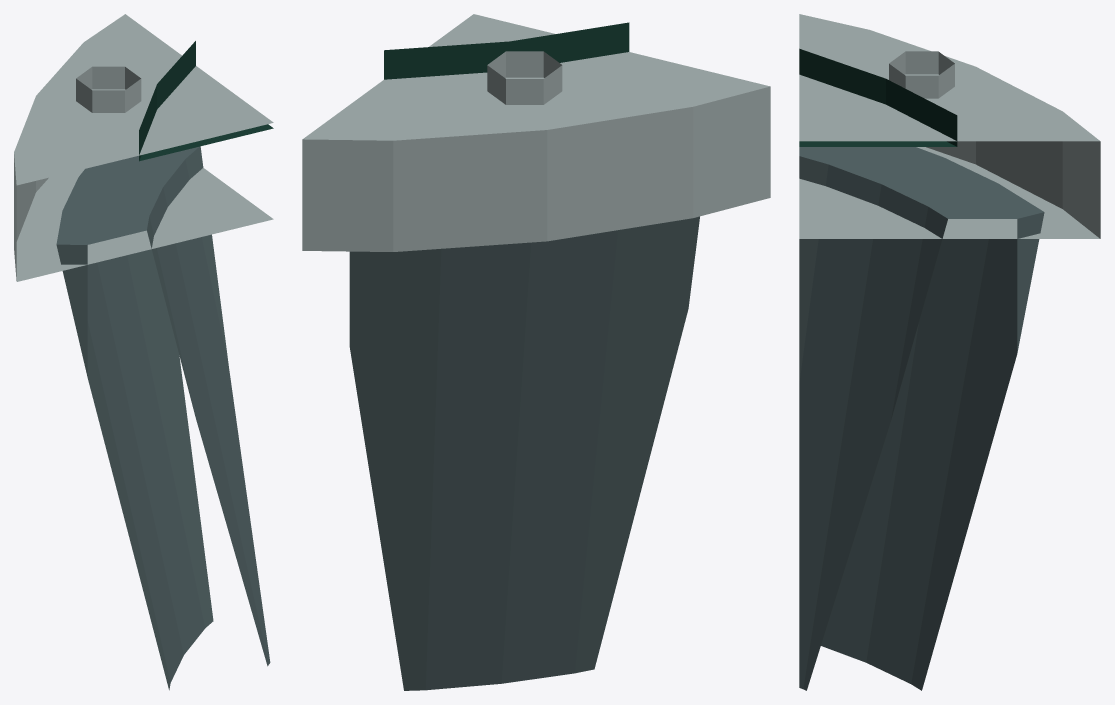
The model's file is cell_27.obj.
3 views of the same model, side by side, from view 1: azimuth 30°, elevation 25°; view 2: azimuth 150°, elevation 25°; view 3: azimuth 270°, elevation 25° (orthographic). The views are drawn at different scales.
Bounding box in the file's own units: 0.474 × 1 × 0.474.
